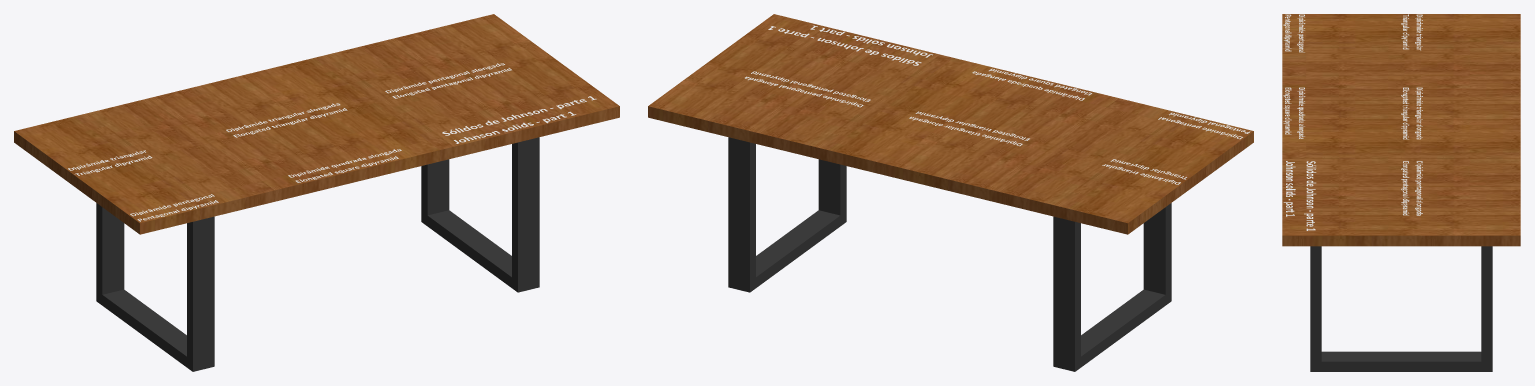
File: johnson1c.glb
3 renders of one model, left to right at view 1: azimuth 30°, elevation 25°; view 2: azimuth 150°, elevation 25°; view 3: azimuth 270°, elevation 25°, orthographic. The views are drawn at different scales.
Parts seen in each view (by area): view 1: object 1, Composant#1 (×2), Sólidos de Johns, Dipirâmide penta#1, Dipirâmide trian#1, Dipirâmide quadr; view 2: object 1, Composant#1 (×2), Sólidos de Johns, Dipirâmide penta#1, Dipirâmide trian#1, Dipirâmide quadr; view 3: object 1, Composant#1, Sólidos de Johns, Dipirâmide penta#1, Dipirâmide trian#1, Dipirâmide quadr, Dipirâmide penta, Dipirâmide trian.
Part boxes in pixels (bbox=[...]): object 1: bbox=[14, 14, 619, 234]; Composant#1 (×2): bbox=[96, 137, 539, 371]; Sólidos de Johns: bbox=[442, 96, 596, 143]; Dipirâmide penta#1: bbox=[385, 63, 511, 98]; Dipirâmide trian#1: bbox=[226, 103, 347, 137]; Dipirâmide quadr: bbox=[288, 149, 401, 182]; object 1: bbox=[648, 14, 1253, 234]; Composant#1 (×2): bbox=[728, 137, 1171, 371]; Sólidos de Johns: bbox=[768, 25, 932, 65]; Dipirâmide penta#1: bbox=[745, 71, 870, 107]; Dipirâmide trian#1: bbox=[909, 111, 1029, 146]; Dipirâmide quadr: bbox=[972, 68, 1091, 100]; object 1: bbox=[1282, 14, 1520, 246]; Composant#1: bbox=[1310, 246, 1492, 371]; Sólidos de Johns: bbox=[1283, 161, 1316, 230]; Dipirâmide penta#1: bbox=[1401, 161, 1422, 215]; Dipirâmide trian#1: bbox=[1401, 87, 1422, 139]; Dipirâmide quadr: bbox=[1283, 87, 1305, 138]; Dipirâmide penta: bbox=[1283, 14, 1305, 52]; Dipirâmide trian: bbox=[1401, 14, 1422, 50].
Bounding box in the file's own units: 2.2 × 0.7711 × 1.
Materials: 3 (1 with a texture image).
